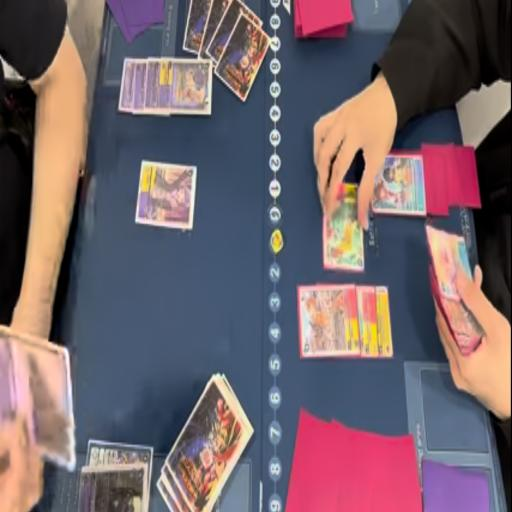card: (0, 321, 79, 474), (132, 162, 200, 234), (297, 284, 359, 361), (322, 176, 366, 271), (423, 219, 475, 298), (86, 438, 148, 504), (156, 58, 216, 118), (369, 154, 427, 216), (81, 463, 150, 512), (441, 292, 485, 346), (376, 279, 394, 363), (358, 283, 376, 364), (144, 51, 160, 123), (131, 56, 148, 122), (116, 58, 135, 117)
